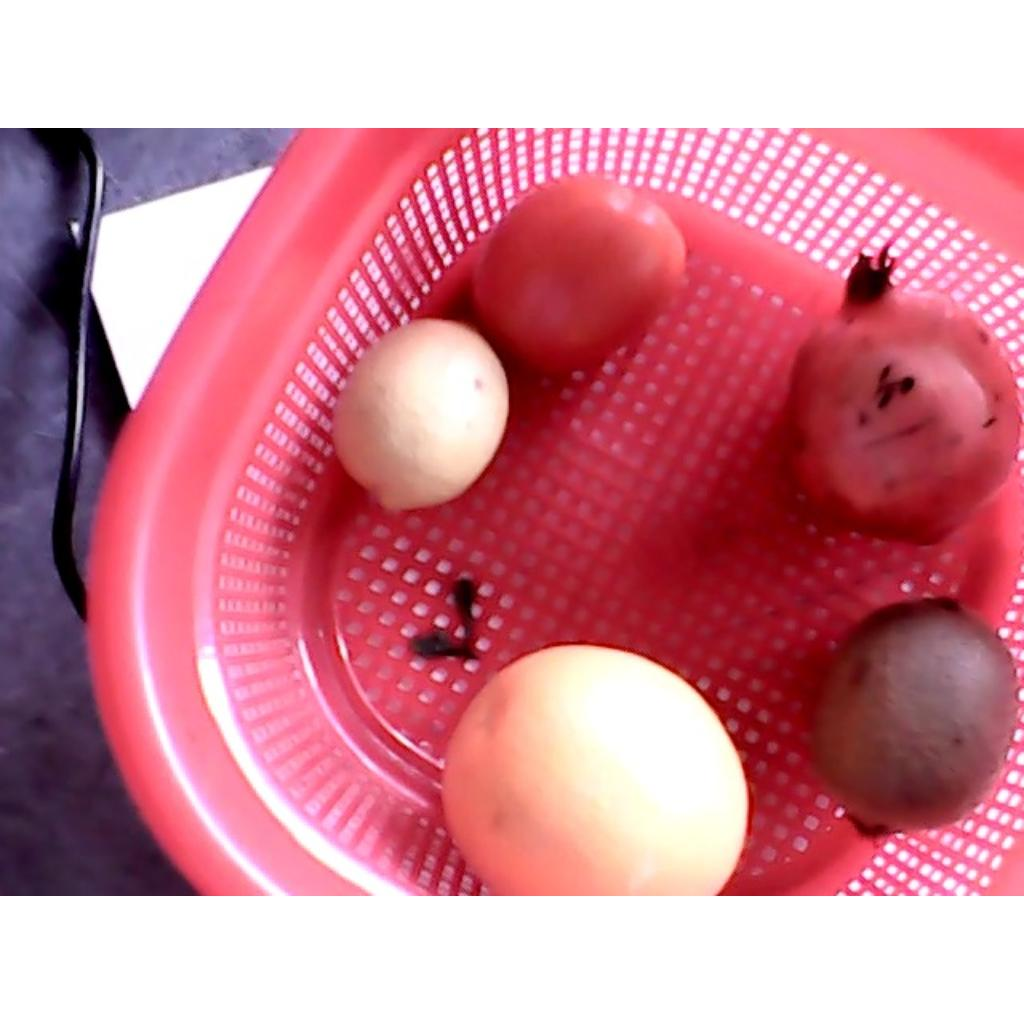kiwi: (814, 598, 1018, 836)
lemon: (331, 320, 507, 508)
orange: (440, 643, 751, 894)
pomegranate: (784, 246, 1019, 549)
tomato: (472, 174, 685, 373)
